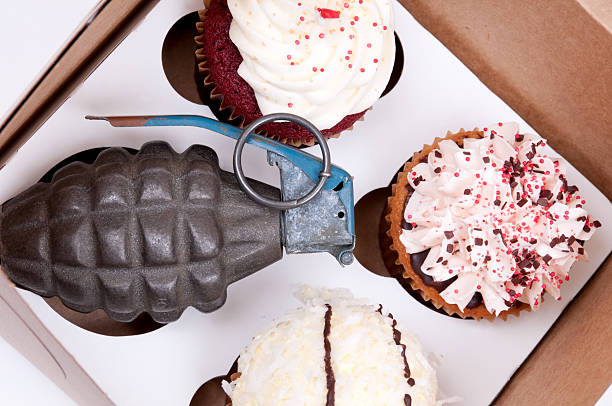e1: (5, 112, 357, 324)
